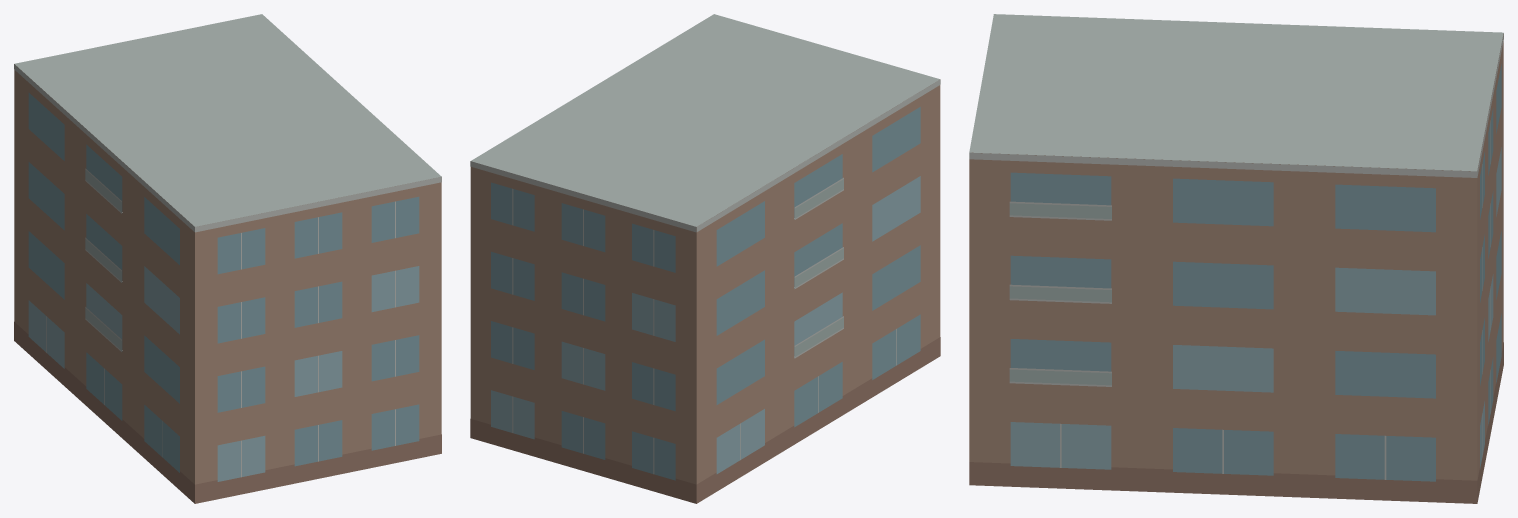
The model's file is survey-upis-32750274.glb.
3 renders of one model, left to right at view 1: azimuth 30°, elevation 25°; view 2: azimuth 150°, elevation 25°; view 3: azimuth 270°, elevation 25°, orthographic. The views are drawn at different scales.
Visible parts, largest first — view 1: survey-upis-32750274.tmp; view 2: survey-upis-32750274.tmp; view 3: survey-upis-32750274.tmp.
Boxes of the visible parts, x1,y1,x2,y2 form: survey-upis-32750274.tmp: [14, 14, 441, 503]; survey-upis-32750274.tmp: [470, 14, 940, 503]; survey-upis-32750274.tmp: [969, 14, 1503, 503].
Size of the model in its own units: 12.34 by 12.15 by 17.71.
